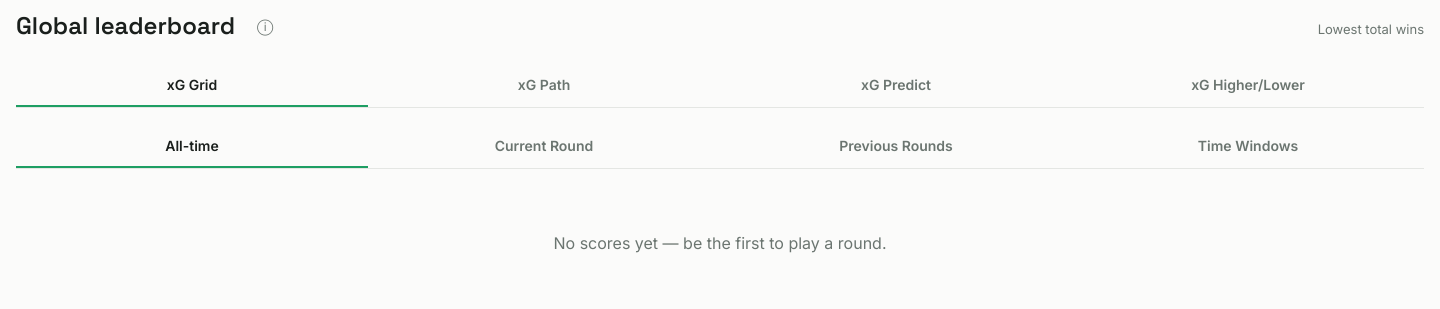
Test: WindowedLeaderboard › REQ405: switching the round/week/month/year sub-tab re-fetches with the newly selected resolution
Expected: the text "No scores yet — be the first to play a round." is shown, [554,233,886,253]
Step 1. Click the tab "Time Windows" → (1248, 146), box [1072,124,1424,168]
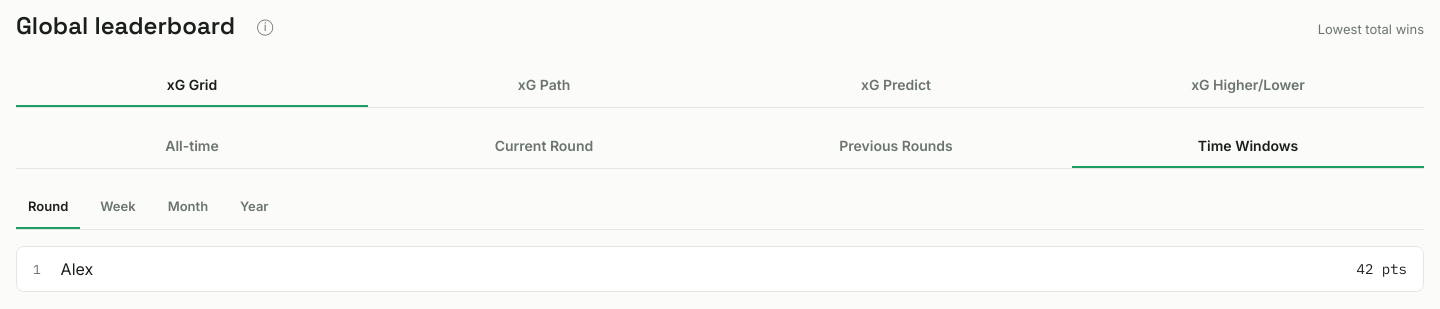
Expected: the text "Alex" is shown, [61,259,93,279]
Step 2. Click the tab "Week" → (118, 207), box [88,185,148,229]
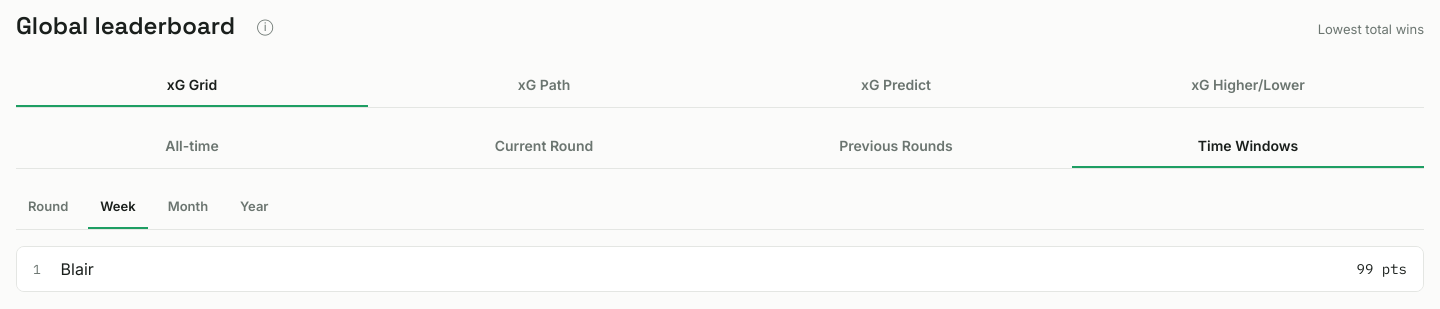
Expected: the text "Blair" is shown, [61,259,94,279]
Expected: the text "Alex" is gone
